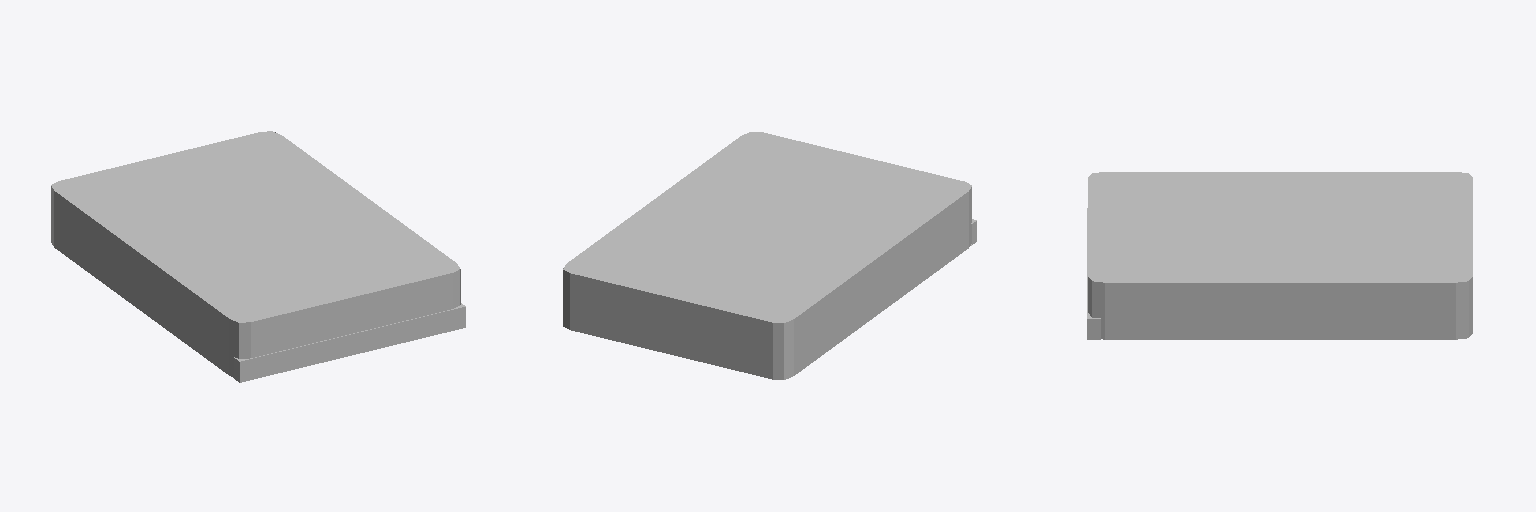
The model's file is hdd.obj.
3 views of the same model, side by side, from view 1: azimuth 30°, elevation 25°; view 2: azimuth 150°, elevation 25°; view 3: azimuth 270°, elevation 25° (orthographic).
Visible parts, largest first — view 1: Hard_Disk_Plane; view 2: Hard_Disk_Plane; view 3: Hard_Disk_Plane.
Part boxes in pixels (bbox=[...]): Hard_Disk_Plane: bbox=[51, 131, 465, 382]; Hard_Disk_Plane: bbox=[563, 132, 976, 379]; Hard_Disk_Plane: bbox=[1087, 172, 1472, 339].
Bounding box in the file's own units: 1.03 × 0.249 × 1.52.